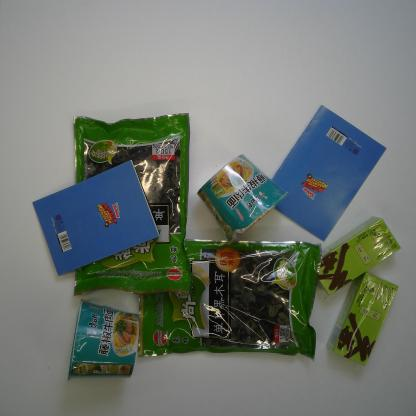Dried Food: (138, 237, 323, 363), (71, 112, 195, 298)
Instant Drink: (316, 216, 402, 297), (326, 271, 398, 367)
Instant Noodles: (197, 154, 289, 246), (65, 299, 141, 382)
Stationery: (272, 104, 388, 242), (32, 159, 160, 277)
